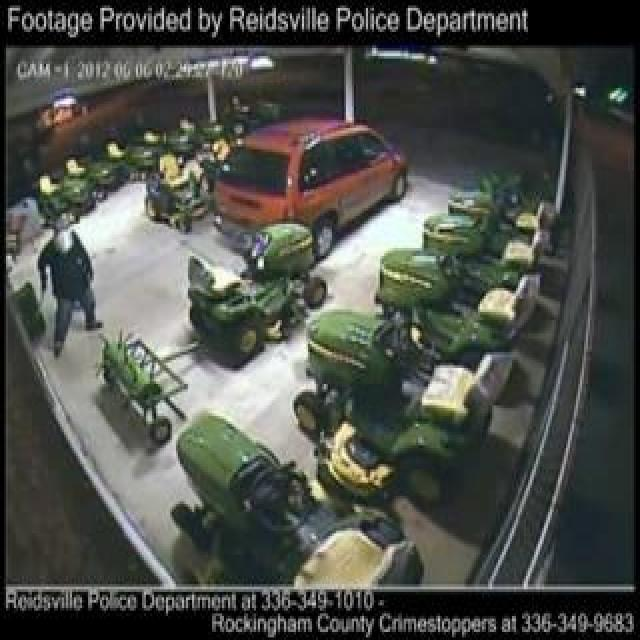thief: (40, 206, 110, 353)
